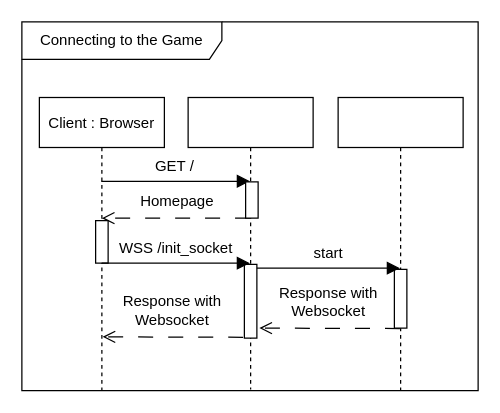
The diagram is 500 pixels wide and 413 high, and some of its shapes have lost their labels. Each missing label, with the box of its shape:
Mist Server : Actor: (187, 96, 313, 389)
Websocket : Actor: (337, 96, 463, 391)
